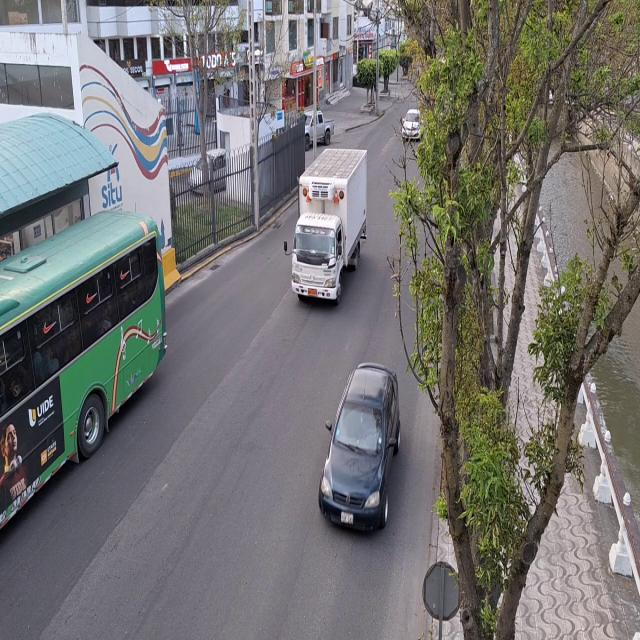BUS: (0, 208, 167, 534)
CMT: (303, 109, 339, 147)
SED: (318, 364, 400, 544)
TRUCK: (291, 148, 368, 304)
